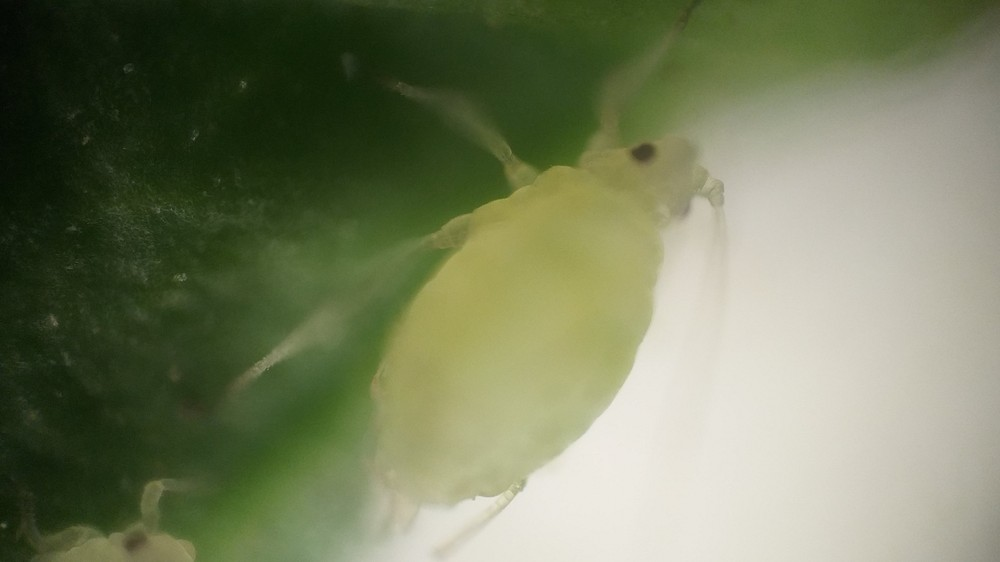Pulgon: (263, 9, 741, 555)
